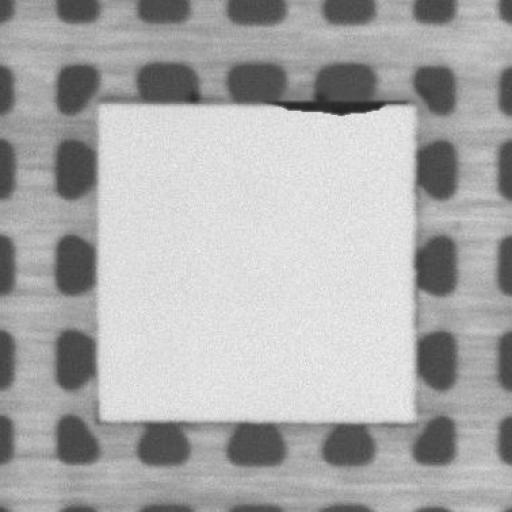DIE_BROKEN: (274, 96, 392, 116)
